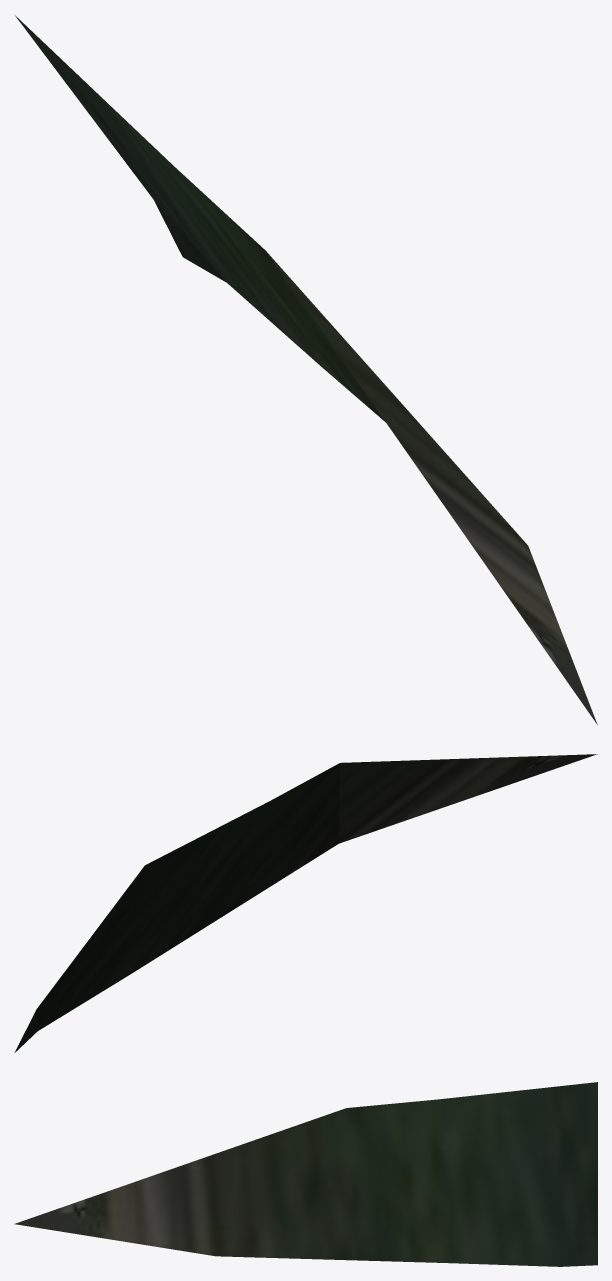
3 views of the same model, one above another, from view 1: azimuth 30°, elevation 25°; view 2: azimuth 150°, elevation 25°; view 3: azimuth 270°, elevation 25° (orthographic). The views are drawn at different scales.
Size of the model in its own units: 0.5753 by 0.8899 by 3.32.
Materials: 1 (1 with a texture image).
